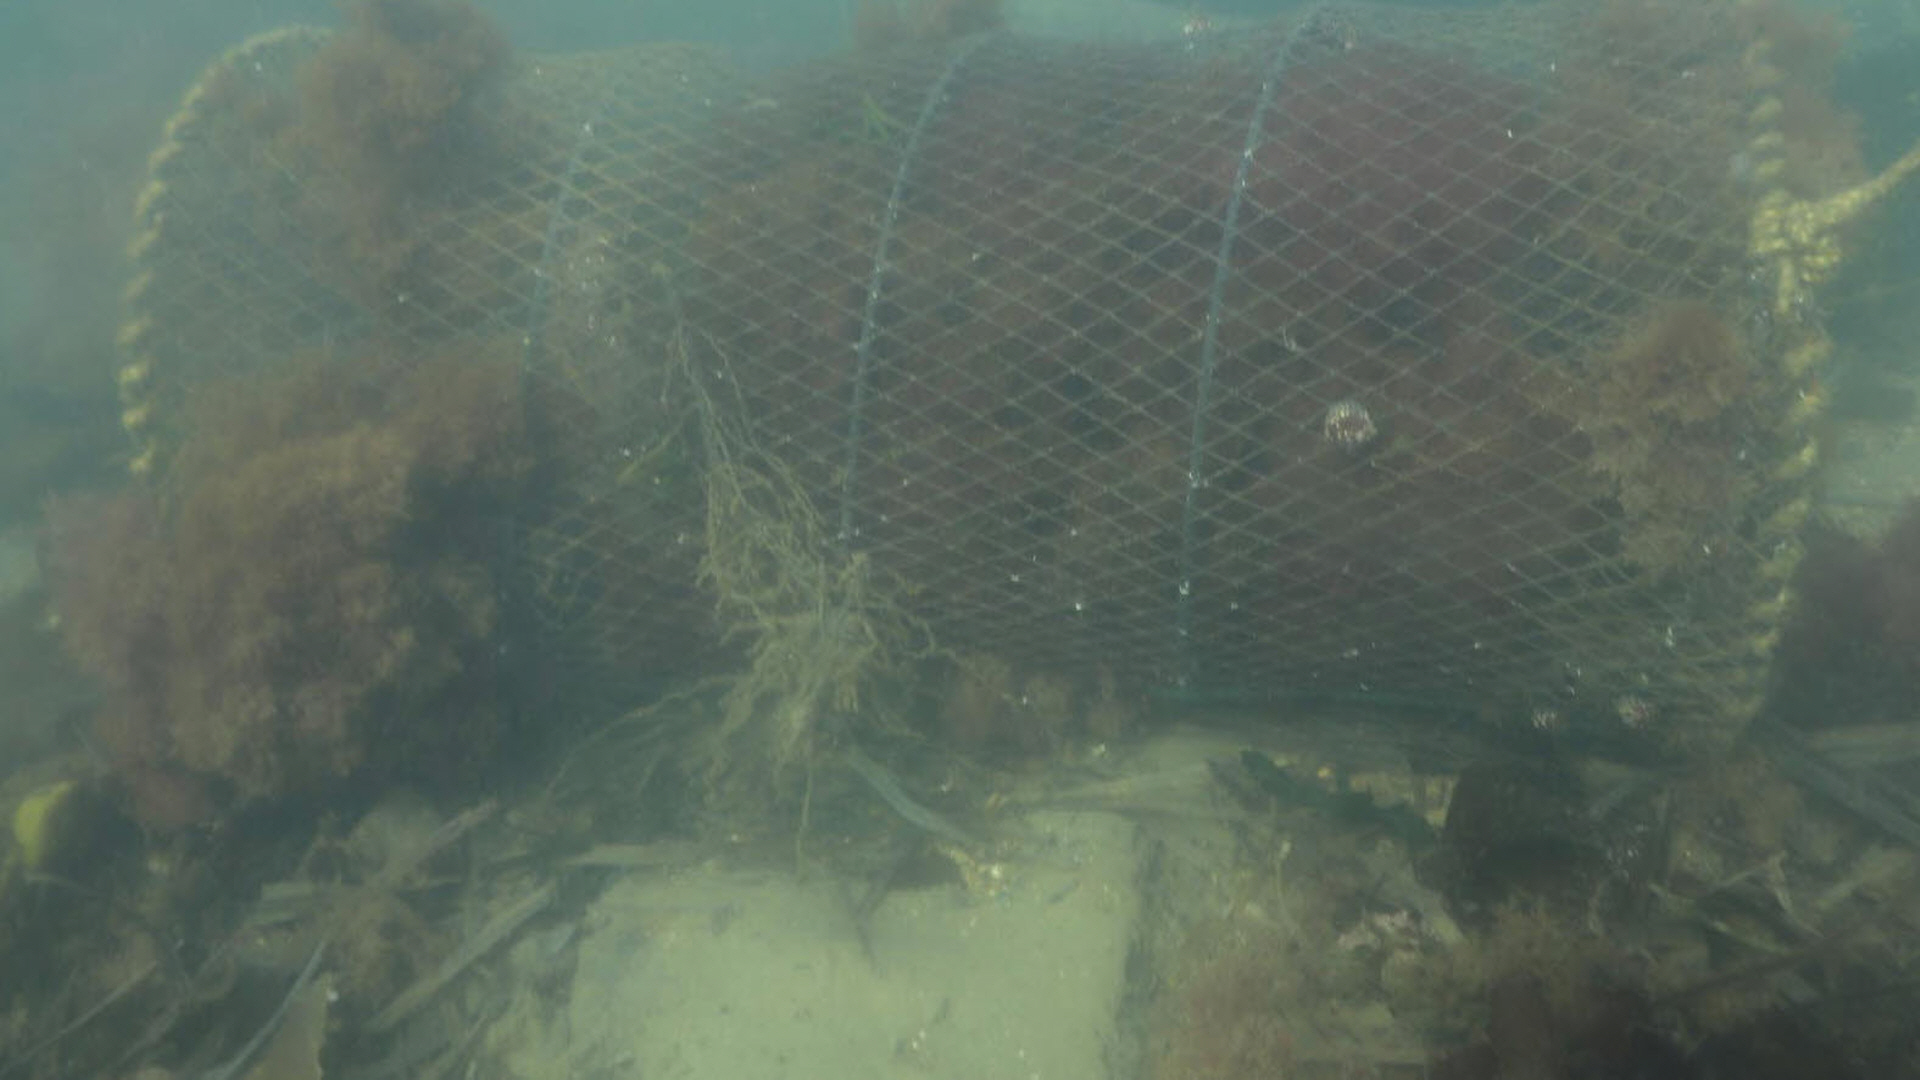bundle of ropes: (1747, 135, 1920, 280)
spring fish trap: (111, 21, 1841, 754)
